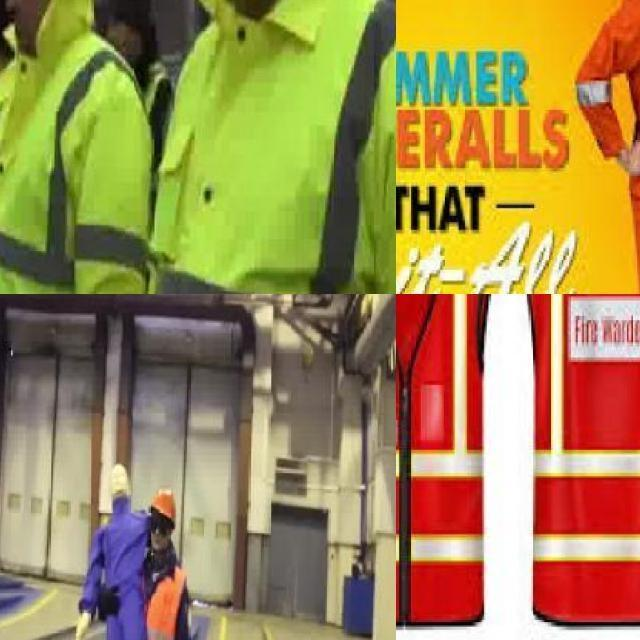apron: (95, 578, 124, 623)
